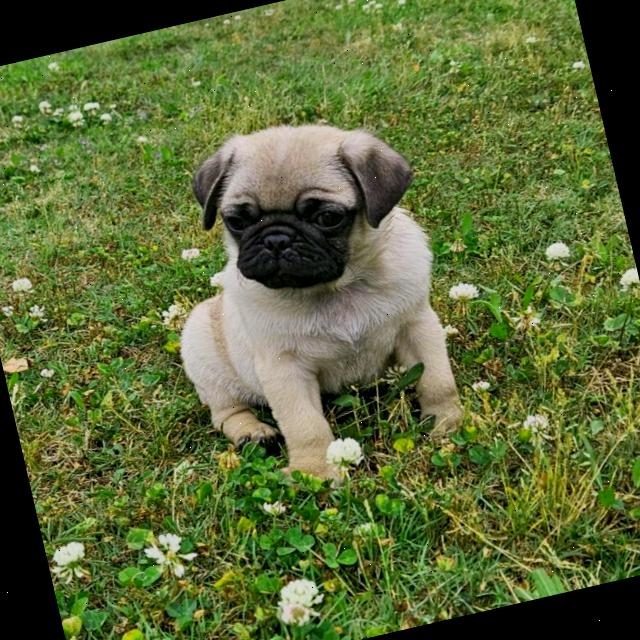pug_dog: (172, 84, 442, 322)
